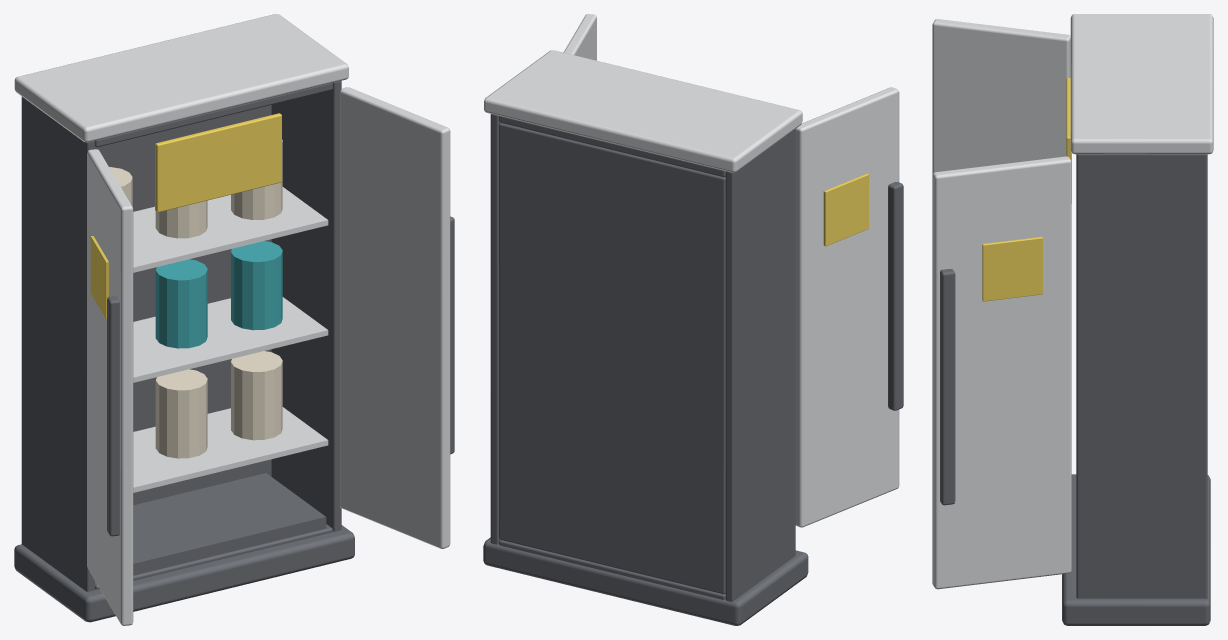
The model's file is public-aquarium-and-marine-centre-chemical-store-cabin-e3d8605f__34189.glb.
3 views of the same model, side by side, from view 1: azimuth 30°, elevation 25°; view 2: azimuth 150°, elevation 25°; view 3: azimuth 270°, elevation 25° (orthographic). The views are drawn at different scales.
Visible parts, largest first — view 1: chemical-store-cabinet-open, door-chem-right (×2), door-chem-left (×3); view 2: chemical-store-cabinet-open, door-chem-left (×3), door-chem-right; view 3: chemical-store-cabinet-open, door-chem-right (×3), door-chem-left.
Boxes of the visible parts, box(x1,y1,x2,y2) form: chemical-store-cabinet-open: box(14, 14, 354, 622); door-chem-right (×2): box(340, 87, 454, 548); door-chem-left (×3): box(87, 149, 133, 625); chemical-store-cabinet-open: box(483, 50, 808, 625); door-chem-left (×3): box(795, 87, 903, 527); door-chem-right: box(563, 14, 596, 60); chemical-store-cabinet-open: box(1062, 14, 1213, 625); door-chem-right (×3): box(932, 156, 1071, 589); door-chem-left: box(932, 19, 1070, 174).
Size of the model in its own units: 1.38 by 1.88 by 0.9839.
